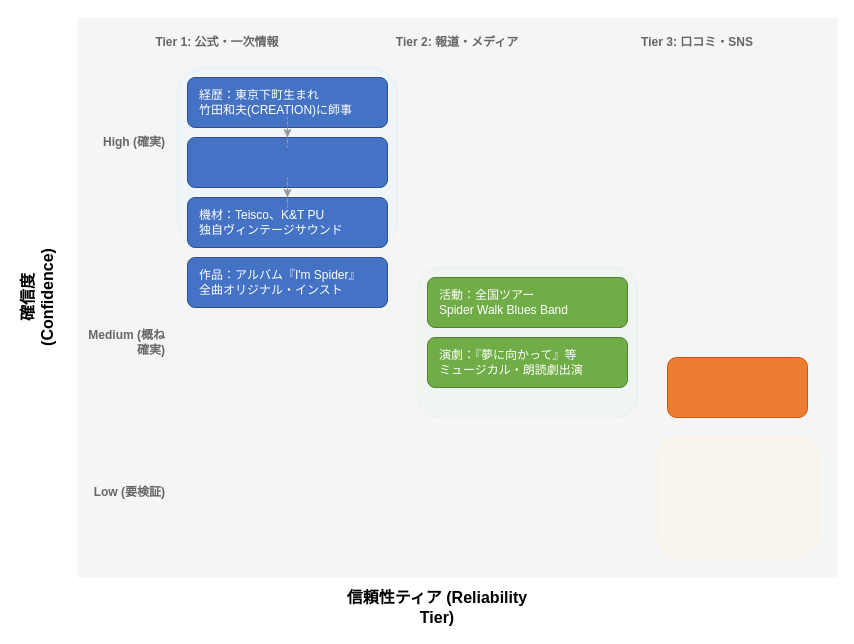
Image size: 854x644. Some labels were removed from this diagram. Each missing label, with the box of its shape:
海外経験：シカゴ武者修行 オーティス・ラッシュ共演: (186, 136, 388, 188)
評価：「本物のブルース」 「アットホームな人柄」: (666, 356, 808, 418)
